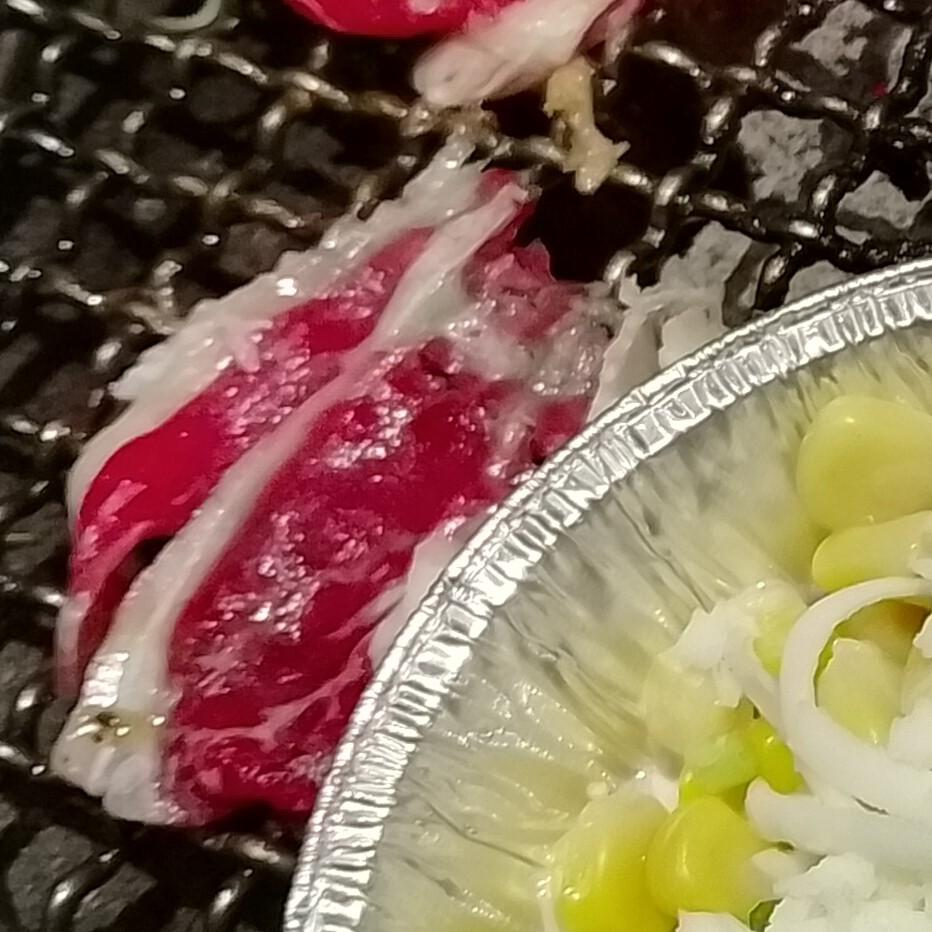Undercooked: (51, 145, 616, 825)
